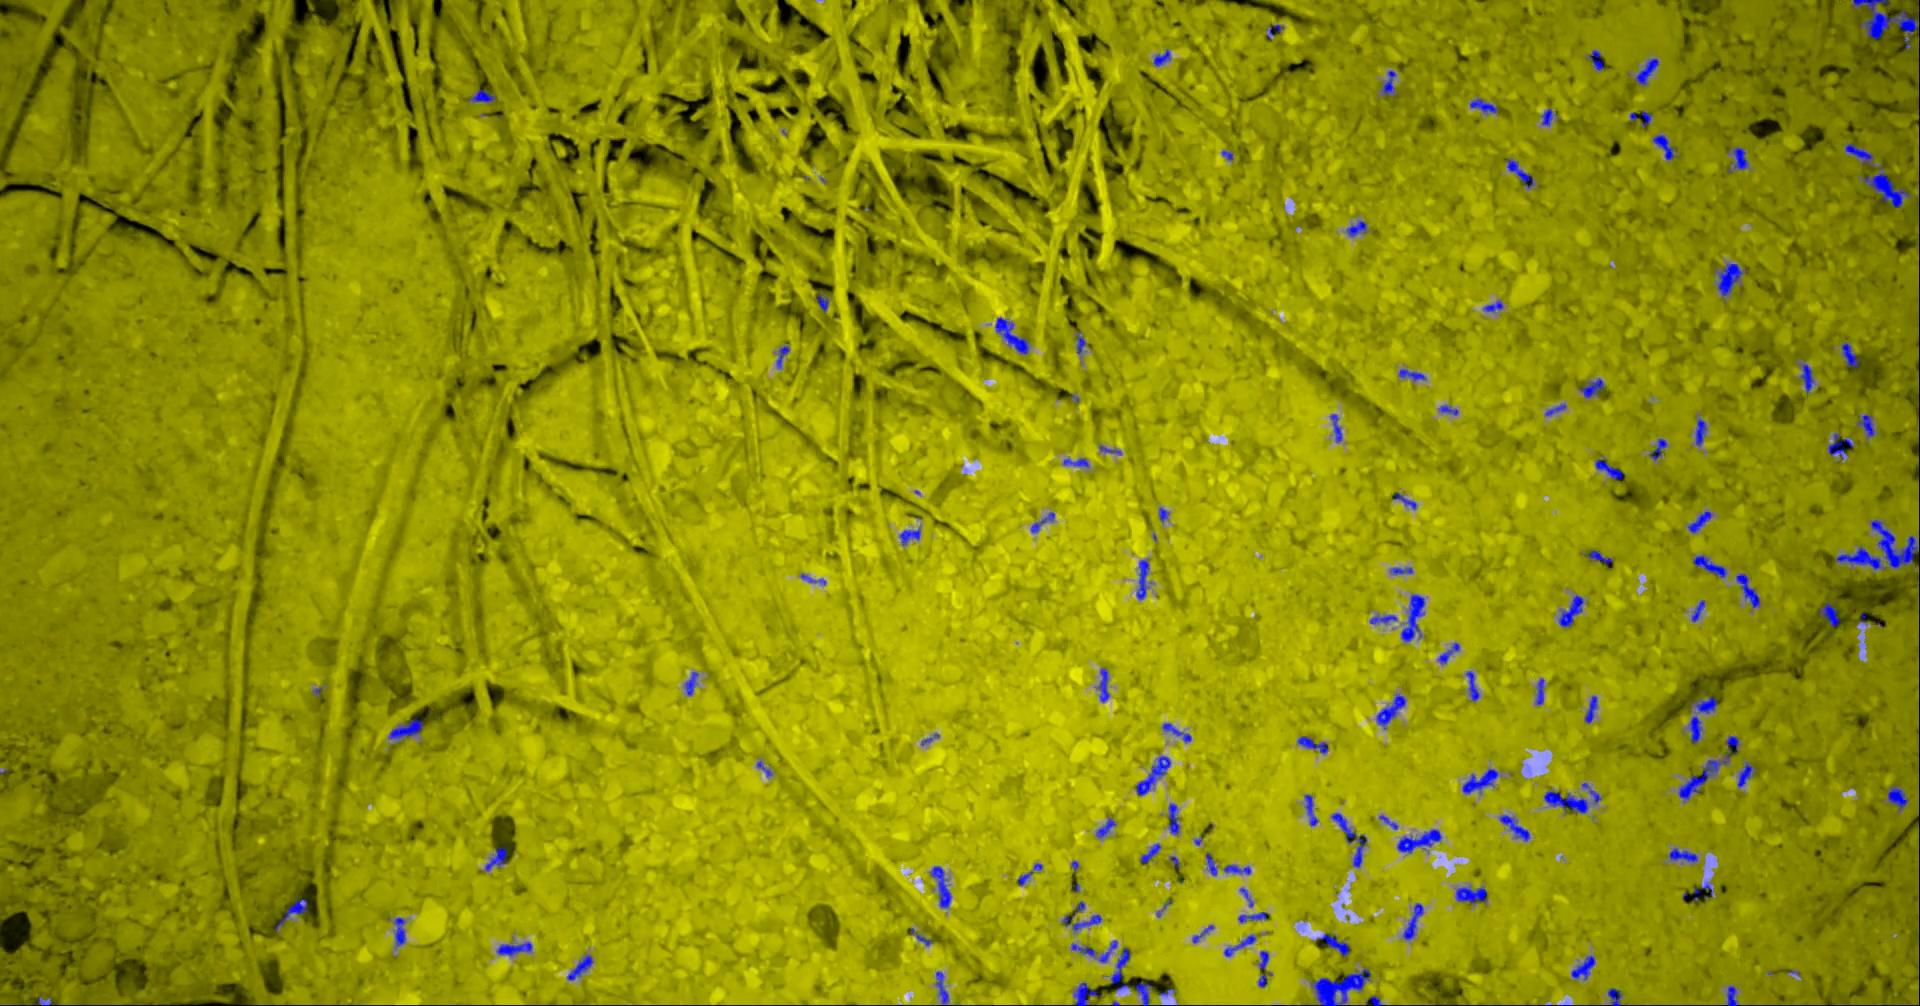ant: (1677, 735, 1738, 801), (1310, 968, 1370, 1005), (1330, 812, 1366, 868), (1862, 165, 1910, 207), (1135, 754, 1170, 795), (994, 318, 1029, 354), (1399, 594, 1425, 641), (1396, 828, 1441, 852), (276, 898, 307, 931), (1543, 790, 1589, 813), (1375, 694, 1404, 728), (930, 865, 951, 908), (1716, 263, 1745, 295), (1462, 768, 1498, 793), (1110, 948, 1130, 991), (389, 716, 423, 742), (1558, 594, 1583, 627), (1735, 573, 1759, 607), (1505, 158, 1533, 187), (1691, 554, 1726, 577), (1498, 814, 1529, 840), (1402, 903, 1423, 939), (1316, 934, 1349, 956), (1223, 934, 1255, 956), (1844, 144, 1874, 166), (566, 954, 592, 981), (1636, 57, 1658, 85), (1135, 559, 1150, 600), (1161, 721, 1191, 742), (1827, 433, 1851, 459), (1570, 955, 1595, 979), (1062, 915, 1101, 930), (1594, 459, 1623, 479), (1652, 133, 1675, 159), (1297, 735, 1327, 754), (1073, 982, 1098, 1005), (1727, 146, 1749, 171), (1455, 887, 1487, 903), (1030, 511, 1054, 532), (1887, 785, 1907, 810), (485, 845, 505, 870), (1688, 511, 1710, 532), (1437, 641, 1459, 664), (1818, 602, 1839, 626), (1840, 342, 1859, 367), (1578, 379, 1604, 398), (1737, 762, 1756, 788), (935, 970, 949, 1005), (1390, 492, 1416, 509), (497, 942, 532, 955), (1690, 696, 1717, 713), (1135, 981, 1153, 1005), (1801, 362, 1815, 392), (1583, 549, 1611, 564), (1095, 817, 1115, 837), (1648, 438, 1667, 460), (1581, 782, 1600, 804), (1139, 843, 1161, 862), (1191, 923, 1213, 942), (1098, 940, 1117, 962), (1097, 667, 1109, 702), (1304, 794, 1317, 826), (1469, 98, 1497, 112), (1688, 715, 1702, 743), (1669, 847, 1697, 861), (1465, 669, 1478, 700), (1693, 882, 1713, 901), (1857, 414, 1874, 436), (909, 927, 931, 945), (469, 88, 495, 102), (1583, 695, 1597, 721), (392, 917, 405, 946), (1382, 70, 1396, 95), (684, 671, 698, 695), (1070, 942, 1095, 956), (1586, 50, 1603, 70), (1346, 220, 1366, 236), (899, 528, 919, 545), (1238, 911, 1267, 922), (800, 573, 825, 586), (1168, 803, 1178, 835), (1330, 414, 1341, 442), (1398, 368, 1425, 380), (1695, 417, 1705, 445), (776, 345, 789, 367), (1691, 600, 1704, 621), (1153, 50, 1170, 66), (1223, 864, 1250, 874), (1205, 852, 1217, 875), (1063, 457, 1088, 467), (1369, 614, 1397, 622), (1608, 987, 1622, 1005), (1545, 403, 1564, 415), (1482, 300, 1502, 311), (1726, 984, 1737, 1005), (1437, 404, 1457, 415), (1266, 24, 1281, 38), (1540, 108, 1552, 126), (817, 293, 828, 311), (1535, 678, 1543, 704), (1258, 950, 1269, 969), (1076, 333, 1084, 354), (1641, 111, 1652, 127), (1389, 567, 1412, 574), (1365, 995, 1382, 1005)
